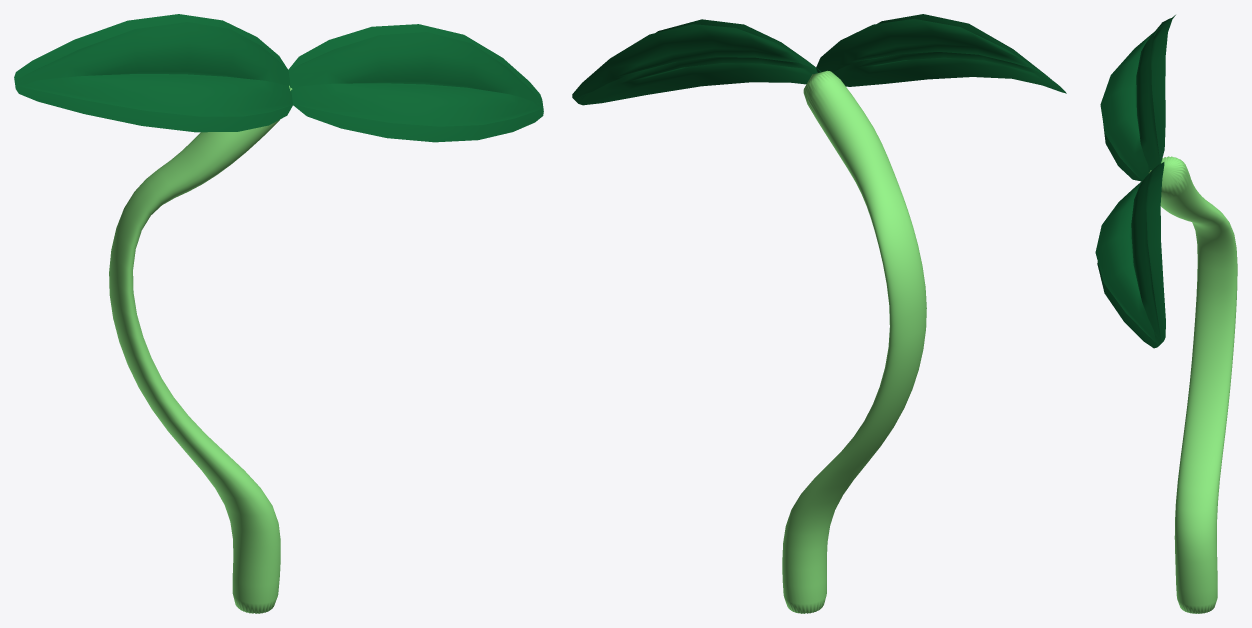
File: Seedling_V3.glb
3 renders of one model, left to right at view 1: azimuth 30°, elevation 25°; view 2: azimuth 150°, elevation 25°; view 3: azimuth 270°, elevation 25°, orthographic. The views are drawn at different scales.
Parts seen in each view (by area): view 1: Plane.003, Cylinder.001; view 2: Plane.003, Cylinder.001; view 3: Cylinder.001, Plane.003.
Part boxes in pixels (left/top/right/bottom): Plane.003: left=14, top=14, right=543, bottom=142; Cylinder.001: left=109, top=85, right=292, bottom=613; Plane.003: left=572, top=14, right=1066, bottom=105; Cylinder.001: left=782, top=70, right=926, bottom=613; Cylinder.001: left=1149, top=156, right=1237, bottom=613; Plane.003: left=1095, top=15, right=1175, bottom=348.
Bounding box in the file's own units: 3.22 × 3.76 × 0.9261.
